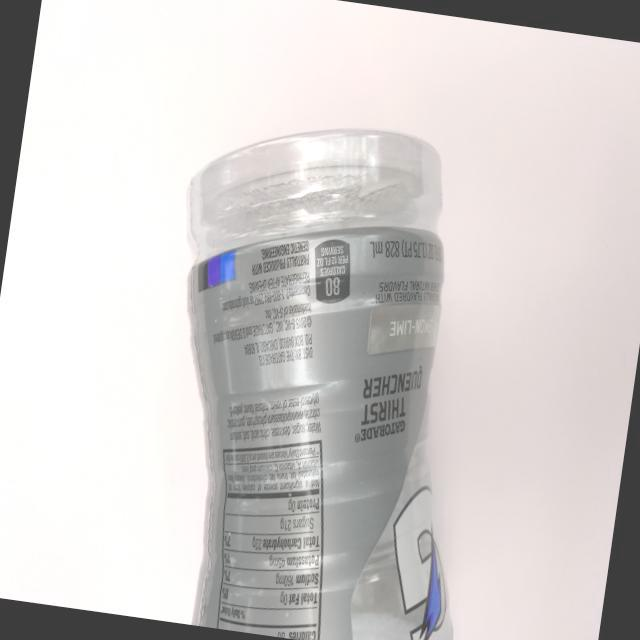plastic: (111, 89, 541, 640)
